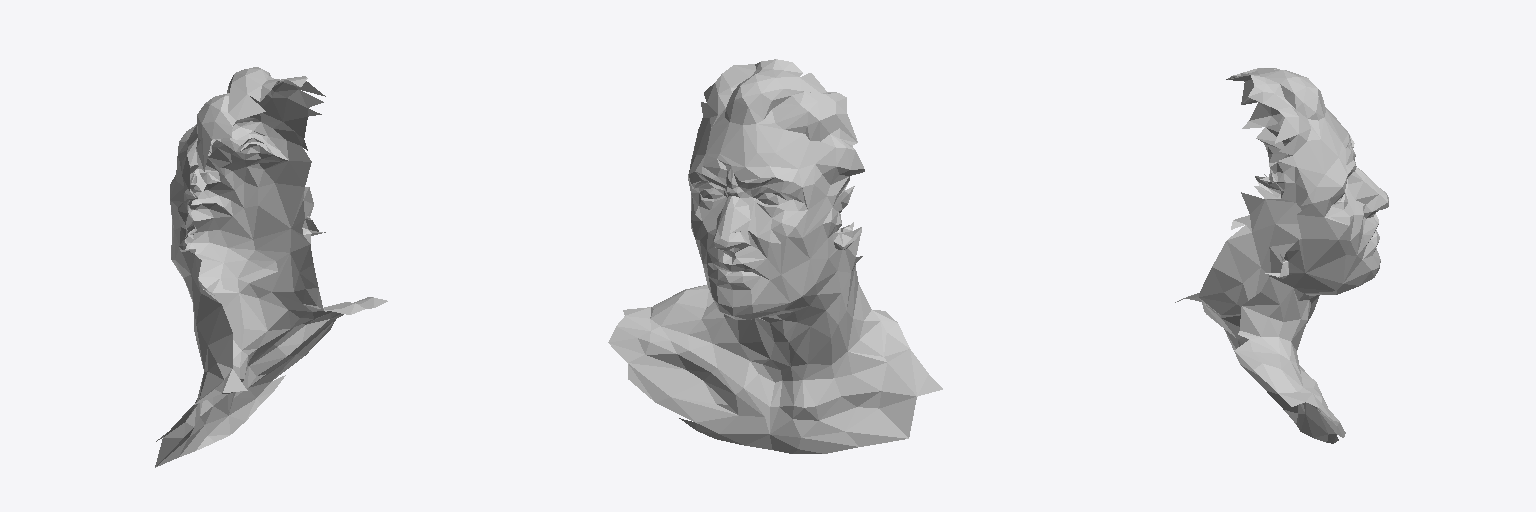
The model's file is perturbed_man_sf.obj.
3 renders of one model, left to right at view 1: azimuth 30°, elevation 25°; view 2: azimuth 150°, elevation 25°; view 3: azimuth 270°, elevation 25°, orthographic.
Parts seen in each view (by area): view 1: perturbed-man-100; view 2: perturbed-man-100; view 3: perturbed-man-100.
Boxes of the visible parts, x1=… form: perturbed-man-100: x1=155, y1=67, x2=387, y2=467; perturbed-man-100: x1=608, y1=59, x2=942, y2=453; perturbed-man-100: x1=1175, y1=68, x2=1388, y2=443.
Size of the model in its own units: 352 by 446 by 239.